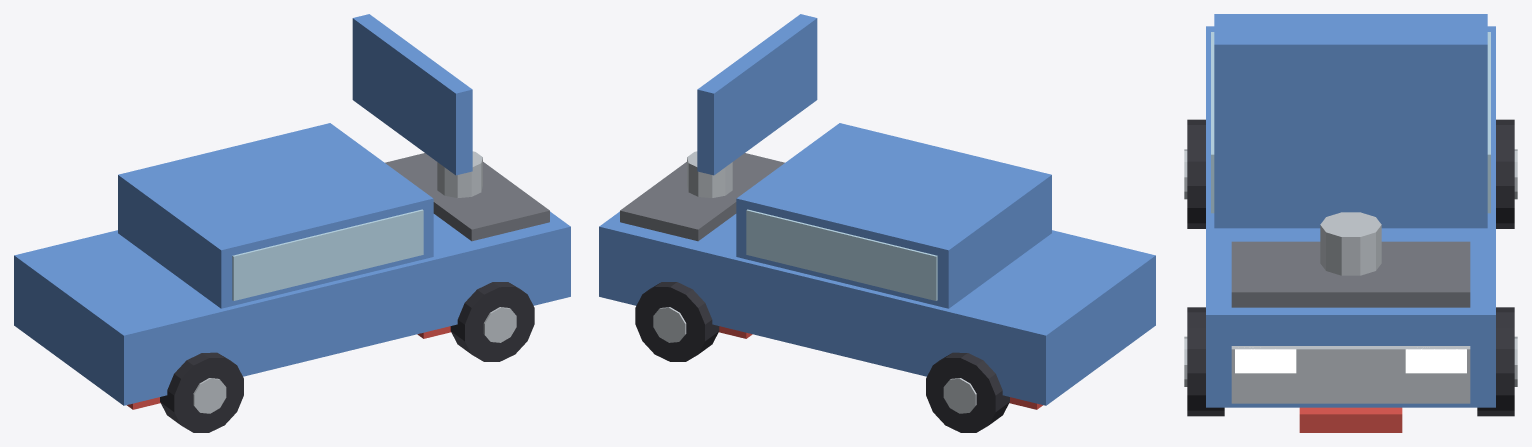
Rendered from workshop_car.glb.
The picture shows the model from 3 angles, left to right: view 1: azimuth 30°, elevation 25°; view 2: azimuth 150°, elevation 25°; view 3: azimuth 270°, elevation 25°; orthographic projection. The views are drawn at different scales.
Parts seen in each view (by area): view 1: workshop_car; view 2: workshop_car; view 3: workshop_car.
Boxes of the visible parts, box(x1,y1,x2,y2) form: workshop_car: box(14, 14, 570, 432); workshop_car: box(599, 14, 1155, 432); workshop_car: box(1184, 14, 1517, 432).
Size of the model in its own units: 4.06 by 2.3 by 1.95.
